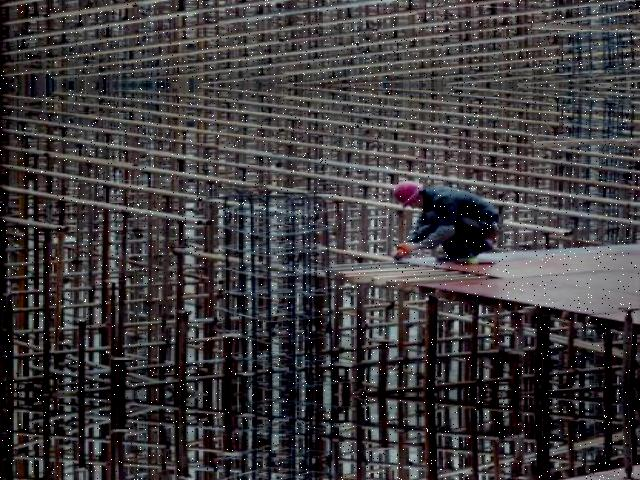Helmet: (391, 177, 430, 213)
